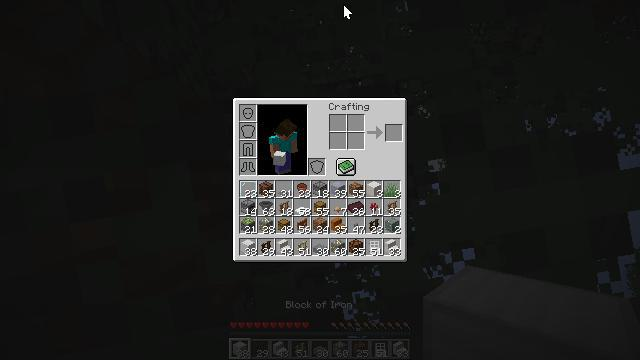cursor: (343, 4, 353, 20)
